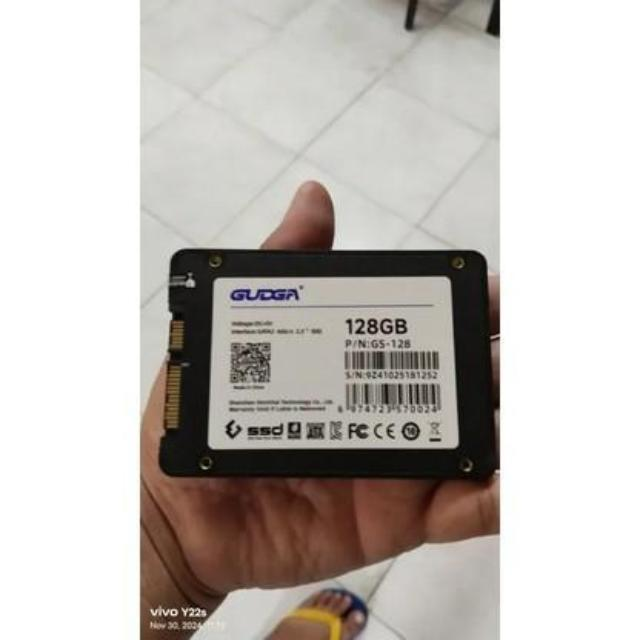DISK: (156, 240, 499, 485)
